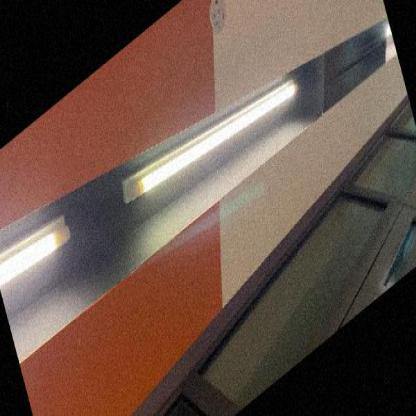light_on: (113, 31, 312, 246), (0, 176, 82, 311), (374, 13, 402, 83)
